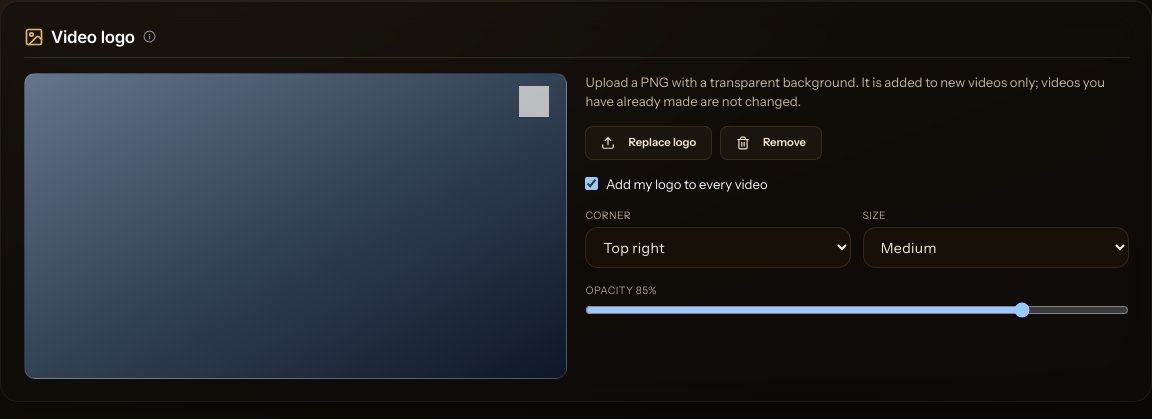
BrandingCard, when things go wrong › opacity is saved once the slider settles, however it was moved
The width and height of the screenshot is (1152, 419).
Set the slider to "60" at (857, 310), box [585,302,1128,318]
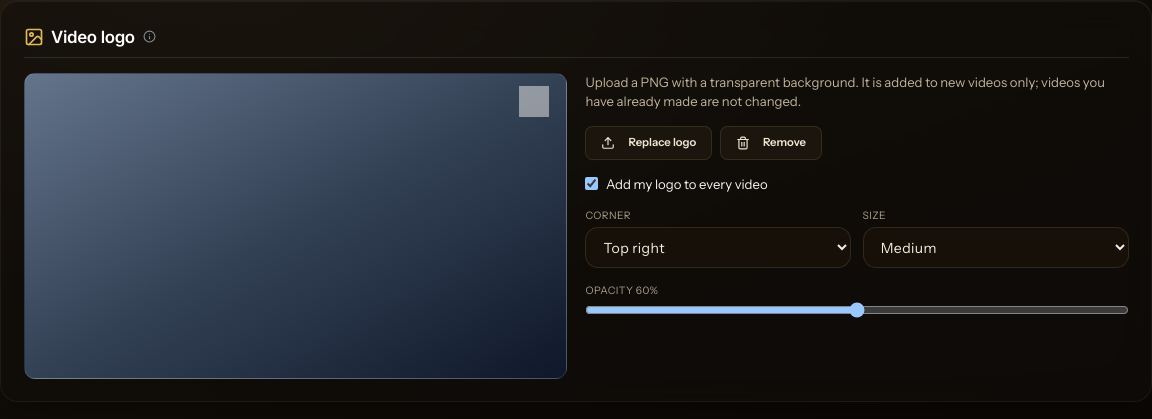
Set the slider to "50" at (791, 310), box [585,302,1128,318]
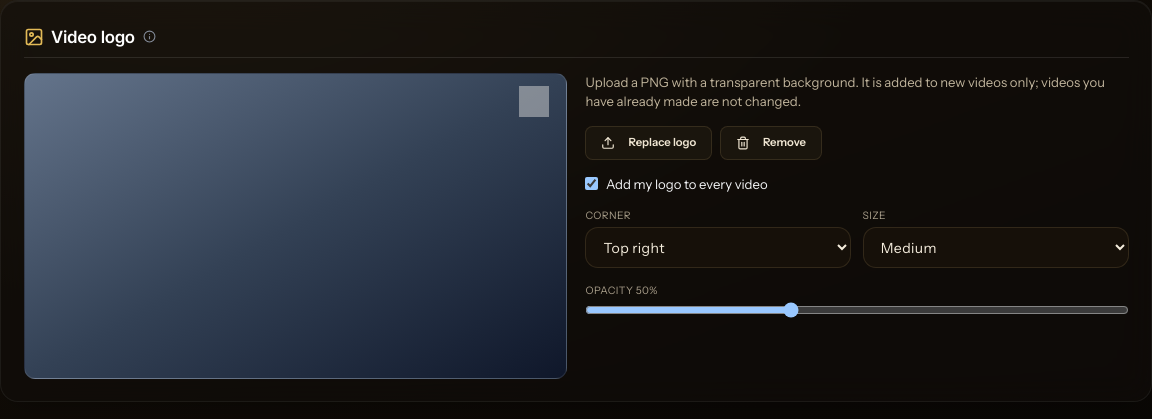
Expected: the text "Opacity 50%" is shown, [585,284,658,297]
